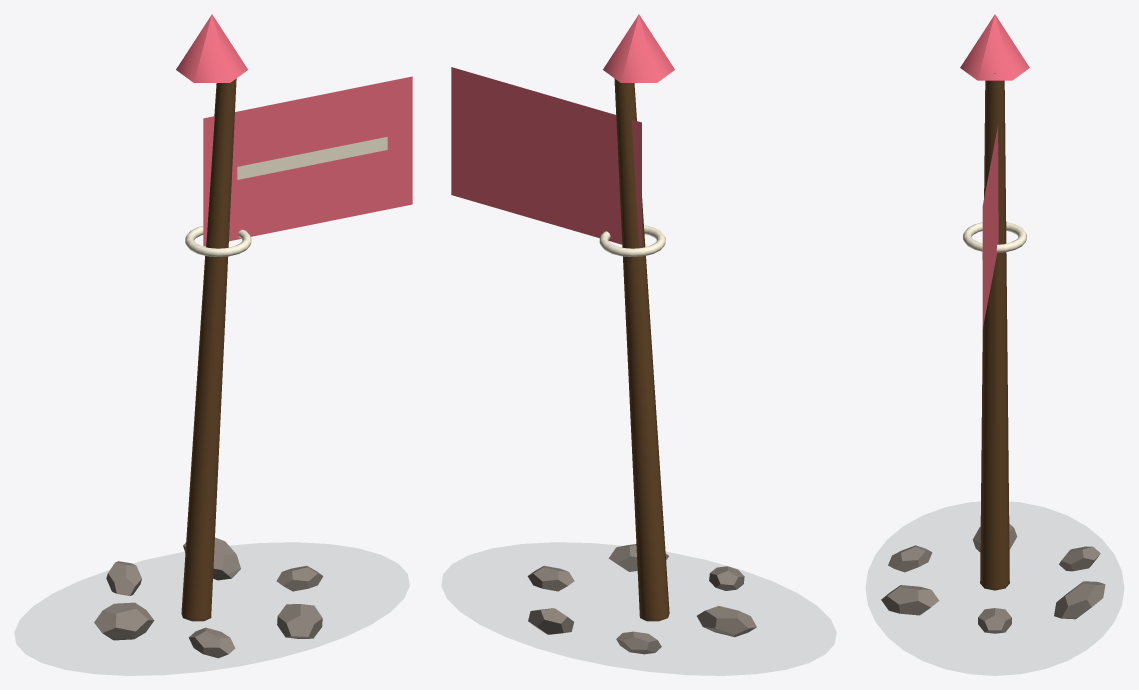
The model's file is tribe_flag.glb.
3 renders of one model, left to right at view 1: azimuth 30°, elevation 25°; view 2: azimuth 150°, elevation 25°; view 3: azimuth 270°, elevation 25°, orthographic. The views are drawn at different scales.
Visible parts, largest first — view 1: soft_ground_shadow, cloth_panel, leaning_pole, top_marker, oath_stripe, flag_anchor_stone_3, flag_anchor_stone_1, flag_anchor_stone_2, flag_anchor_stone_4, lash_ring, flag_anchor_stone_5, flag_anchor_stone_0; view 2: soft_ground_shadow, cloth_panel, leaning_pole, top_marker, flag_anchor_stone_3, lash_ring, flag_anchor_stone_5, flag_anchor_stone_0, flag_anchor_stone_4, flag_anchor_stone_2, flag_anchor_stone_1; view 3: soft_ground_shadow, leaning_pole, top_marker, cloth_panel, flag_anchor_stone_1, flag_anchor_stone_5, lash_ring, flag_anchor_stone_2, flag_anchor_stone_4, flag_anchor_stone_0.
Boxes of the visible parts, x1=… form: soft_ground_shadow: x1=15, y1=543, x2=408, y2=675; cloth_panel: x1=203, y1=76, x2=412, y2=246; leaning_pole: x1=181, y1=78, x2=236, y2=621; top_marker: x1=176, y1=14, x2=247, y2=82; oath_stripe: x1=237, y1=137, x2=387, y2=179; flag_anchor_stone_3: x1=94, y1=602, x2=154, y2=640; flag_anchor_stone_1: x1=277, y1=604, x2=322, y2=638; flag_anchor_stone_2: x1=188, y1=627, x2=235, y2=658; flag_anchor_stone_4: x1=106, y1=561, x2=141, y2=595; lash_ring: x1=185, y1=226, x2=251, y2=256; flag_anchor_stone_5: x1=183, y1=537, x2=240, y2=580; flag_anchor_stone_0: x1=276, y1=566, x2=323, y2=591; soft_ground_shadow: x1=442, y1=543, x2=835, y2=675; cloth_panel: x1=451, y1=67, x2=641, y2=247; leaning_pole: x1=614, y1=78, x2=669, y2=621; top_marker: x1=603, y1=14, x2=674, y2=82; flag_anchor_stone_3: x1=697, y1=606, x2=756, y2=637; lash_ring: x1=599, y1=225, x2=665, y2=256; flag_anchor_stone_5: x1=528, y1=608, x2=573, y2=634; flag_anchor_stone_0: x1=527, y1=565, x2=574, y2=591; flag_anchor_stone_4: x1=616, y1=631, x2=661, y2=654; flag_anchor_stone_2: x1=709, y1=566, x2=744, y2=590; flag_anchor_stone_1: x1=608, y1=544, x2=668, y2=571; soft_ground_shadow: x1=866, y1=502, x2=1123, y2=675; leaning_pole: x1=980, y1=73, x2=1009, y2=590; top_marker: x1=960, y1=14, x2=1029, y2=80; cloth_panel: x1=982, y1=126, x2=998, y2=328; flag_anchor_stone_1: x1=881, y1=585, x2=939, y2=615; flag_anchor_stone_5: x1=1054, y1=581, x2=1105, y2=619; lash_ring: x1=963, y1=222, x2=1026, y2=252; flag_anchor_stone_2: x1=888, y1=545, x2=932, y2=572; flag_anchor_stone_4: x1=1059, y1=546, x2=1100, y2=571; flag_anchor_stone_0: x1=978, y1=608, x2=1011, y2=633.
Size of the model in its own units: 2.43 by 3.67 by 1.48.
